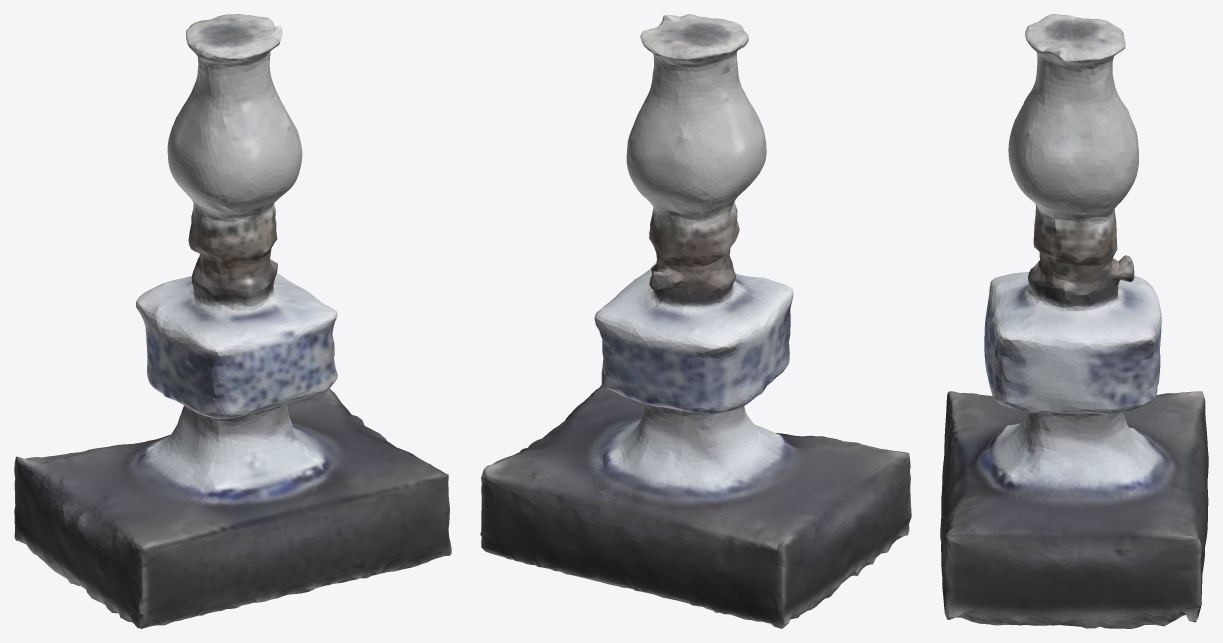
File: oil_lamp.glb
3 views of the same model, side by side, from view 1: azimuth 30°, elevation 25°; view 2: azimuth 150°, elevation 25°; view 3: azimuth 270°, elevation 25° (orthographic).
Size of the model in its own units: 0.5589 by 0.8733 by 0.4026.
1 material, 1 textured.
